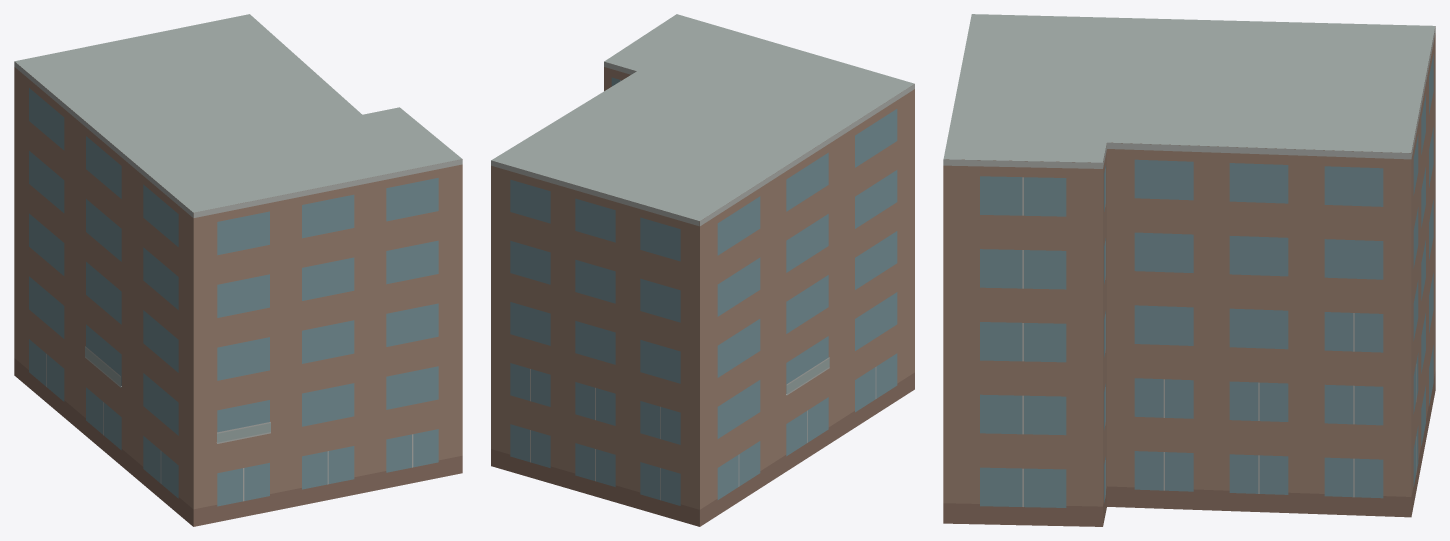
File: survey-upis-32761277.glb
3 views of the same model, side by side, from view 1: azimuth 30°, elevation 25°; view 2: azimuth 150°, elevation 25°; view 3: azimuth 270°, elevation 25° (orthographic). The views are drawn at different scales.
Visible parts, largest first — view 1: survey-upis-32761277.tmp; view 2: survey-upis-32761277.tmp; view 3: survey-upis-32761277.tmp.
Part boxes in pixels (x1,y1,x2,y2): survey-upis-32761277.tmp: [14, 14, 462, 526]; survey-upis-32761277.tmp: [491, 14, 914, 526]; survey-upis-32761277.tmp: [943, 14, 1435, 526].
Bounding box in the file's own units: 12.36 × 14.1 × 17.28.
